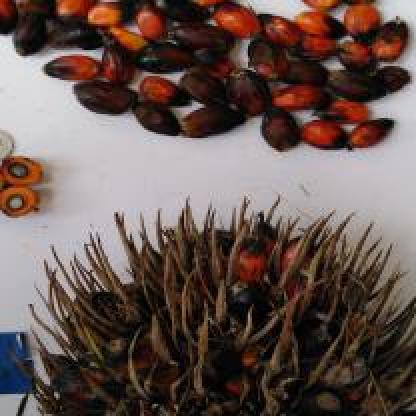Unripe: (28, 190, 416, 416)
